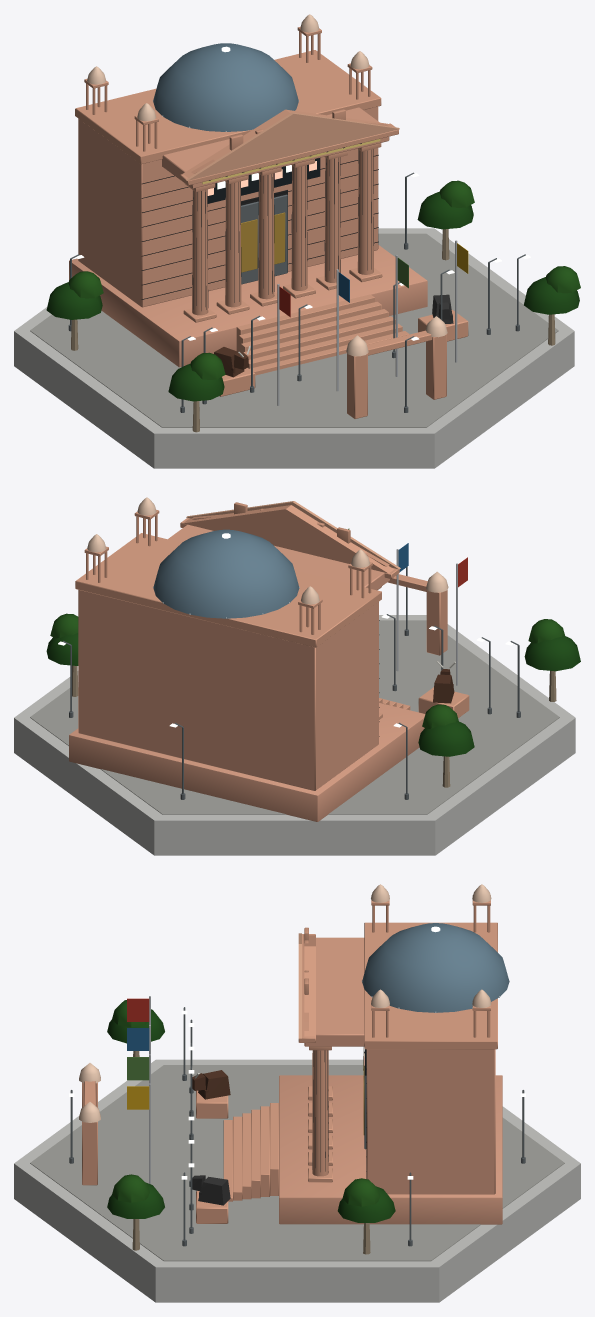
File: stockExchange_india.glb
3 renders of one model, top to bottom at view 1: azimuth 30°, elevation 25°; view 2: azimuth 150°, elevation 25°; view 3: azimuth 270°, elevation 25°, orthographic.
Parts seen in each view (by area): view 1: stone, pavers, wall_concrete, glass, leaf, dark, paint, steel_dark, gold, plaster, metal, wood; view 2: stone, wall_concrete, pavers, glass, leaf, steel_dark, plaster, paint, wood, metal; view 3: stone, pavers, wall_concrete, glass, leaf, paint, steel_dark, plaster, dark.
Boxes of the visible parts, x1=… form: stone: x1=69, y1=26, x2=468, y2=418; pavers: x1=30, y1=233, x2=558, y2=427; wall_concrete: x1=14, y1=228, x2=574, y2=468; glass: x1=153, y1=43, x2=298, y2=131; leaf: x1=46, y1=180, x2=580, y2=401; dark: x1=141, y1=143, x2=378, y2=310; paint: x1=207, y1=158, x2=468, y2=377; steel_dark: x1=68, y1=172, x2=525, y2=412; gold: x1=202, y1=139, x2=380, y2=272; plaster: x1=87, y1=14, x2=447, y2=356; metal: x1=152, y1=100, x2=457, y2=405; wood: x1=71, y1=229, x2=555, y2=432; stone: x1=69, y1=501, x2=469, y2=821; wall_concrete: x1=14, y1=615, x2=575, y2=855; pavers: x1=30, y1=620, x2=559, y2=814; glass: x1=153, y1=529, x2=299, y2=618; leaf: x1=46, y1=613, x2=580, y2=756; steel_dark: x1=63, y1=567, x2=520, y2=799; plaster: x1=87, y1=497, x2=448, y2=604; paint: x1=348, y1=528, x2=467, y2=703; wood: x1=72, y1=665, x2=556, y2=787; metal: x1=153, y1=549, x2=457, y2=685; stone: x1=82, y1=895, x2=502, y2=1224; pavers: x1=30, y1=1065, x2=564, y2=1261; wall_concrete: x1=14, y1=1059, x2=580, y2=1302; glass: x1=362, y1=923, x2=509, y2=1012; leaf: x1=107, y1=1000, x2=395, y2=1222; paint: x1=127, y1=998, x2=366, y2=1205; steel_dark: x1=69, y1=1007, x2=525, y2=1246; plaster: x1=79, y1=884, x2=491, y2=1122; dark: x1=312, y1=1049, x2=366, y2=1178.
Size of the model in its own units: 21.31 by 12.95 by 24.6.
